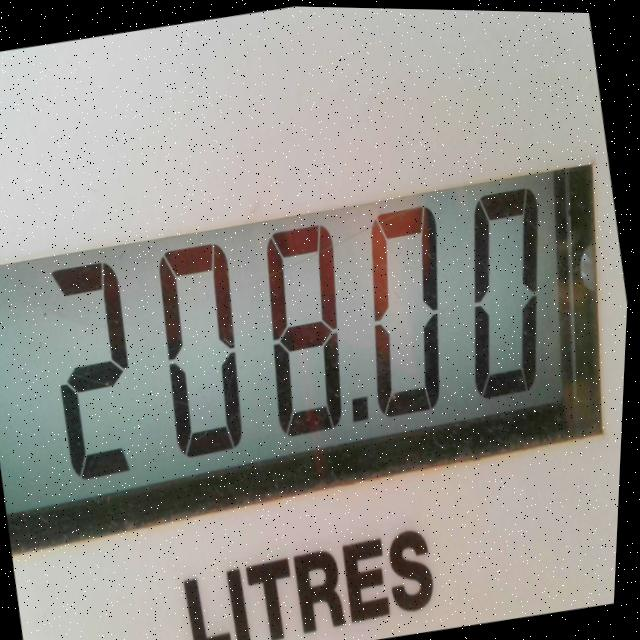.: (339, 366, 386, 441)
0: (339, 200, 483, 431), (443, 179, 574, 403), (139, 232, 264, 464)
2: (16, 251, 165, 499)
8: (241, 215, 365, 439)
